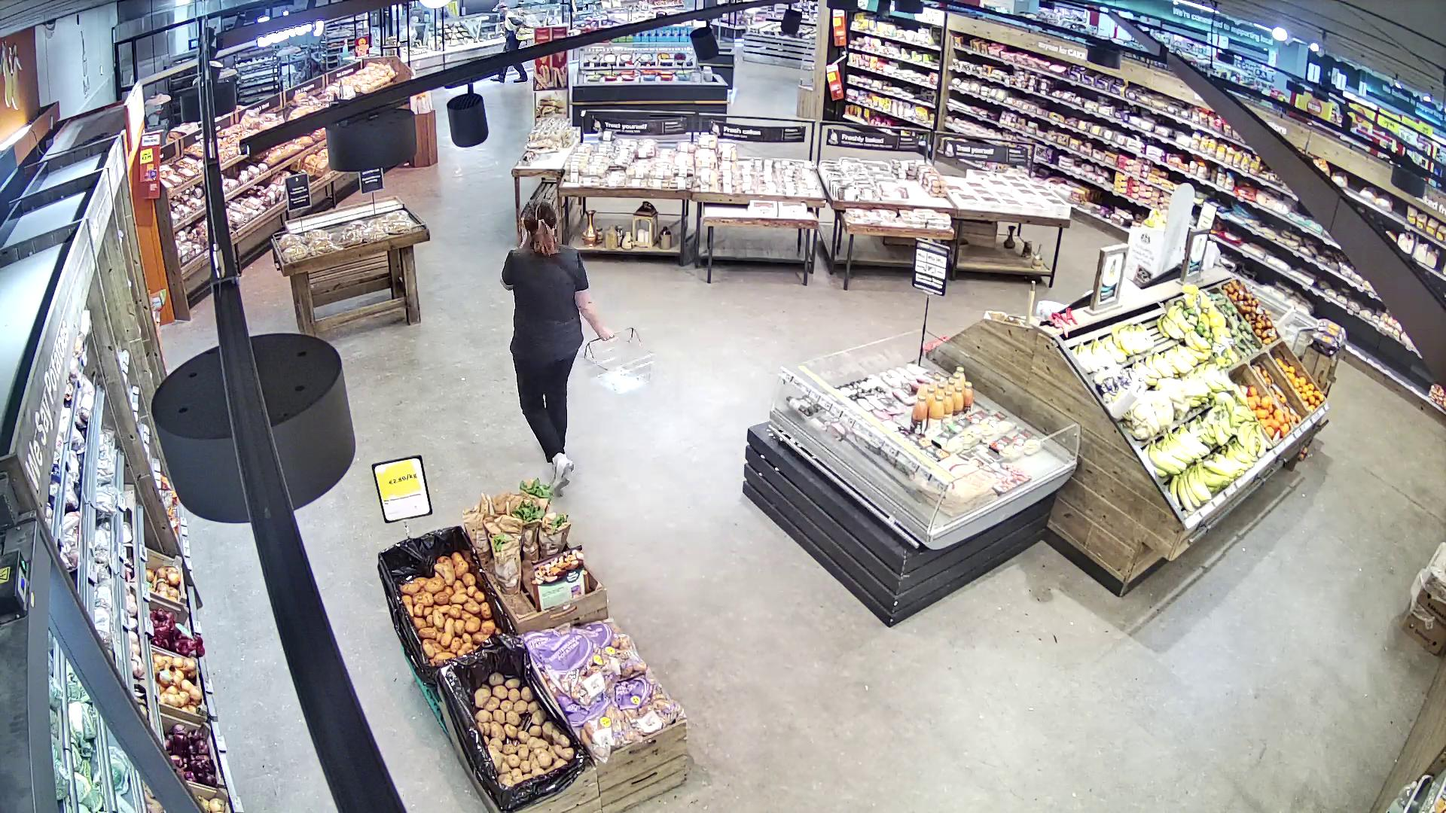empty-basket: (580, 326, 658, 392)
person: (499, 202, 614, 490)
person-with-empty-basket-trolly: (498, 201, 658, 488)
